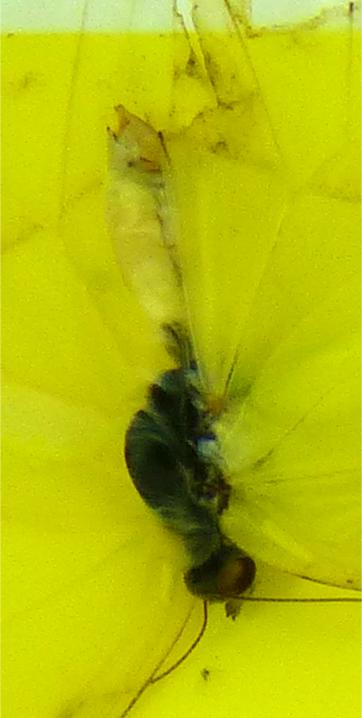Lepidoptera: (100, 100, 262, 618)
